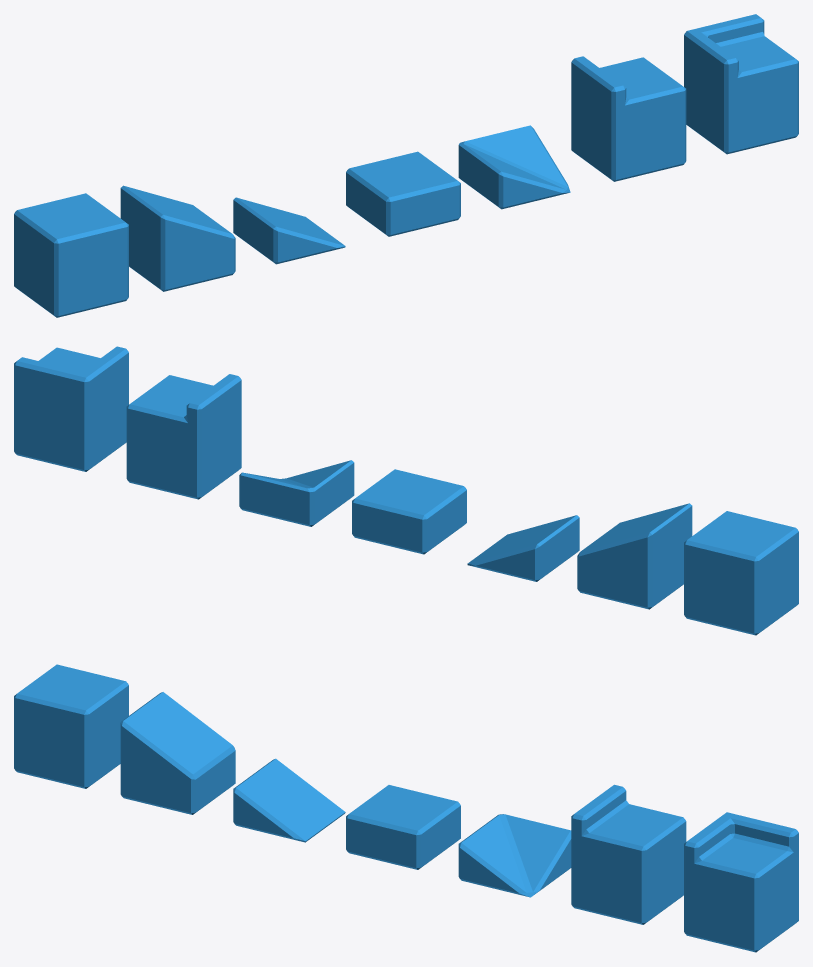
File: worldBlocks_version1.glb
3 views of the same model, one above another, from view 1: azimuth 30°, elevation 25°; view 2: azimuth 150°, elevation 25°; view 3: azimuth 330°, elevation 25° (orthographic).
Visible parts, largest first — view 1: BlockWallCorner, BlockWall, Block, RampTop, BlockShort, RampLowerCorner, RampBottom; view 2: BlockWallCorner, BlockWall, Block, RampTop, BlockShort, RampLowerCorner, RampBottom; view 3: BlockWallCorner, BlockWall, Block, RampTop, BlockShort, RampLowerCorner, RampBottom.
Part boxes in pixels (x1,y1,x2,y2): BlockWallCorner: (684,14,798,154); BlockWall: (571,56,686,181); Block: (14,193,128,317); RampTop: (120,185,235,291); BlockShort: (346,151,460,236); RampLowerCorner: (458,125,570,209); RampBottom: (233,197,345,264); BlockWallCorner: (14,346,128,471); BlockWall: (126,374,241,499); Block: (684,511,798,635); RampTop: (577,503,692,609); BlockShort: (352,469,466,554); RampLowerCorner: (239,460,354,526); RampBottom: (467,515,579,581); BlockWallCorner: (684,812,798,952); BlockWall: (571,784,686,924); Block: (14,664,128,788); RampTop: (120,692,235,814); BlockShort: (346,785,460,869); RampLowerCorner: (458,814,571,897); RampBottom: (233,758,345,842).
Size of what is drawn, in the model's own units: 19.84 by 2.4 by 2.
